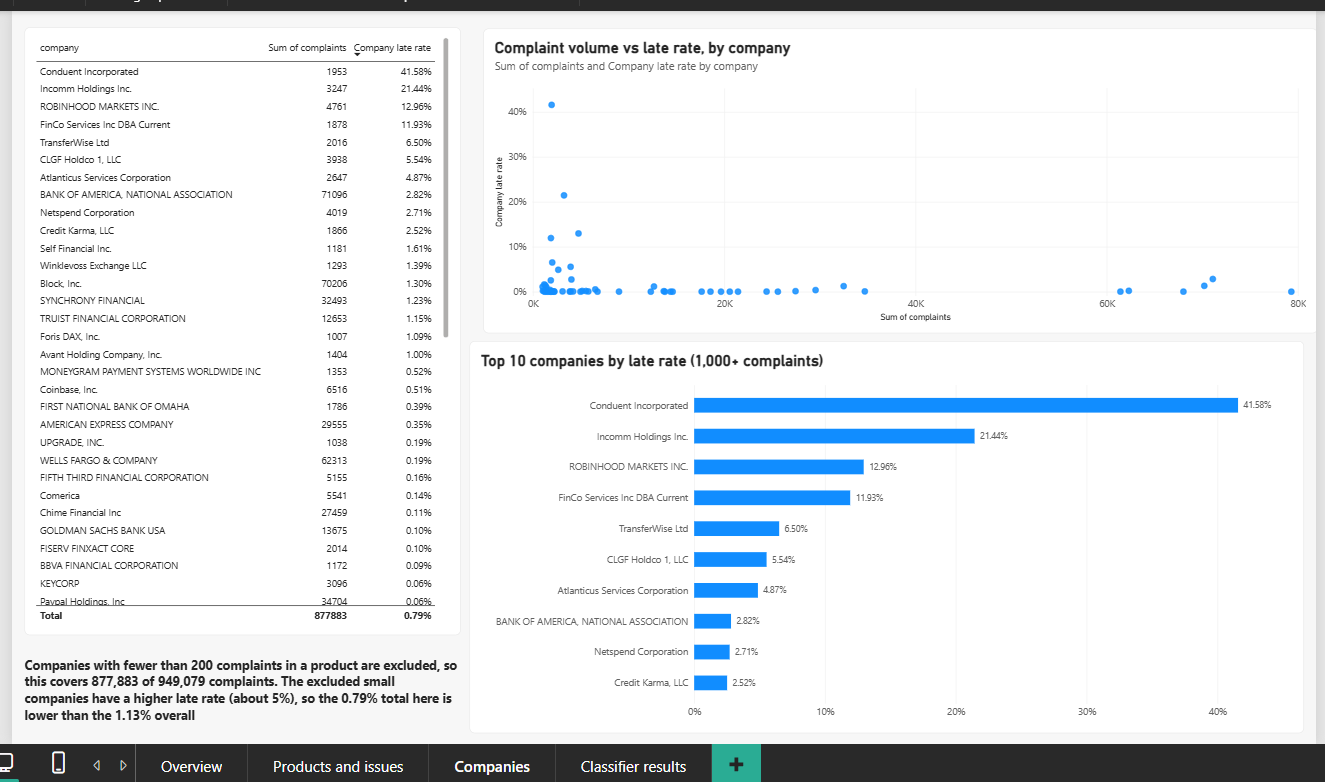

The dashboard page shown, as its layout file describes it:
{"tool":"powerbi","page":{"name":"Companies","canvas":[1920,1080],"ordinal":2},"visuals":[{"type":"tableEx","fields":{"Values":["company_summary.company","Sum(company_summary.complaints)","monthly_summary.Company late rate"]},"box":[18.5,24.7,642.2,895.4],"z":0},{"type":"scatterChart","title":"Complaint volume vs late rate, by company","fields":{"Category":["company_summary.company"],"X":["Sum(company_summary.complaints)"],"Y":["monthly_summary.Company late rate"]},"box":[693.3,25.5,1228.8,448.8],"z":1000},{"type":"barChart","title":"Top 10 companies by late rate (1,000+ complaints)","fields":{"Category":["company_summary.company"],"Y":["company_summary.Late rate (1000+ complaints)"]},"box":[673.2,486.8,1228.8,577.3],"z":2000},{"type":"textbox","box":[18.5,948.9,642.2,115.3],"z":3000}]}

Visuals, with their boxes on the page's 1920x1080 design canvas (x1, y1, x2, y2). These are canvas units, not pixel positions in the 1325x782 screenshot, which may show the page scaled, cropped or inside an application window:
tableEx - company_summary.company x Sum(company_summary.complaints): <box>18,25,661,920</box>
"Complaint volume vs late rate, by company" scatterChart: <box>693,26,1922,474</box>
"Top 10 companies by late rate (1,000+ complaints)" barChart: <box>673,487,1902,1064</box>
textbox: <box>18,949,661,1064</box>
